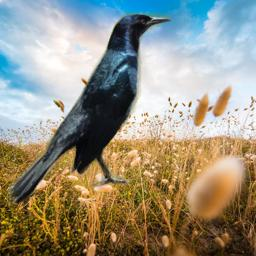Crow: (6, 11, 173, 206)
